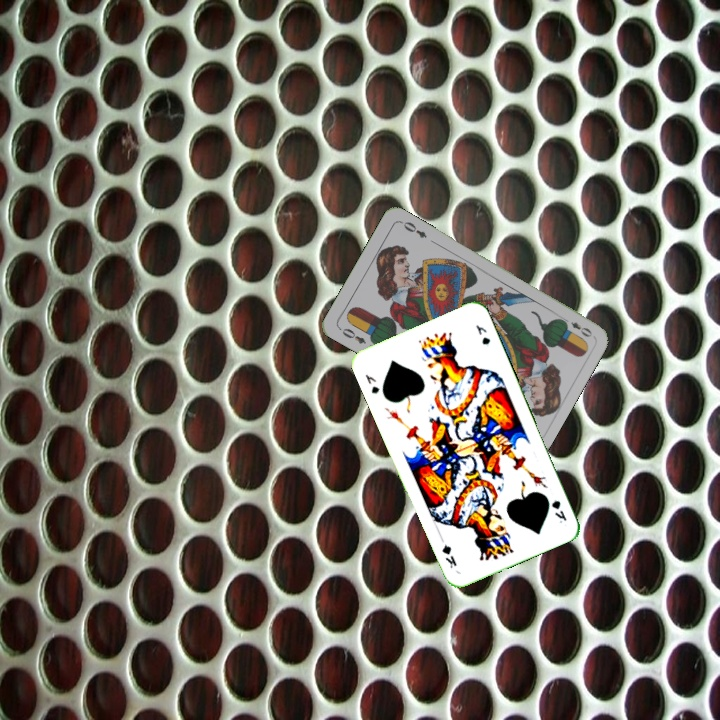EO: (557, 313, 595, 340), (335, 324, 369, 346)
GK: (547, 496, 569, 526), (361, 370, 382, 396)
